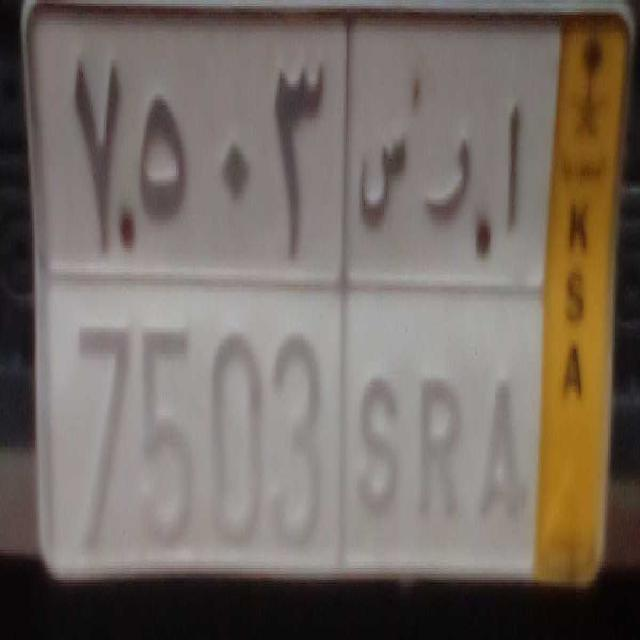license_plate: (38, 271, 542, 578)
